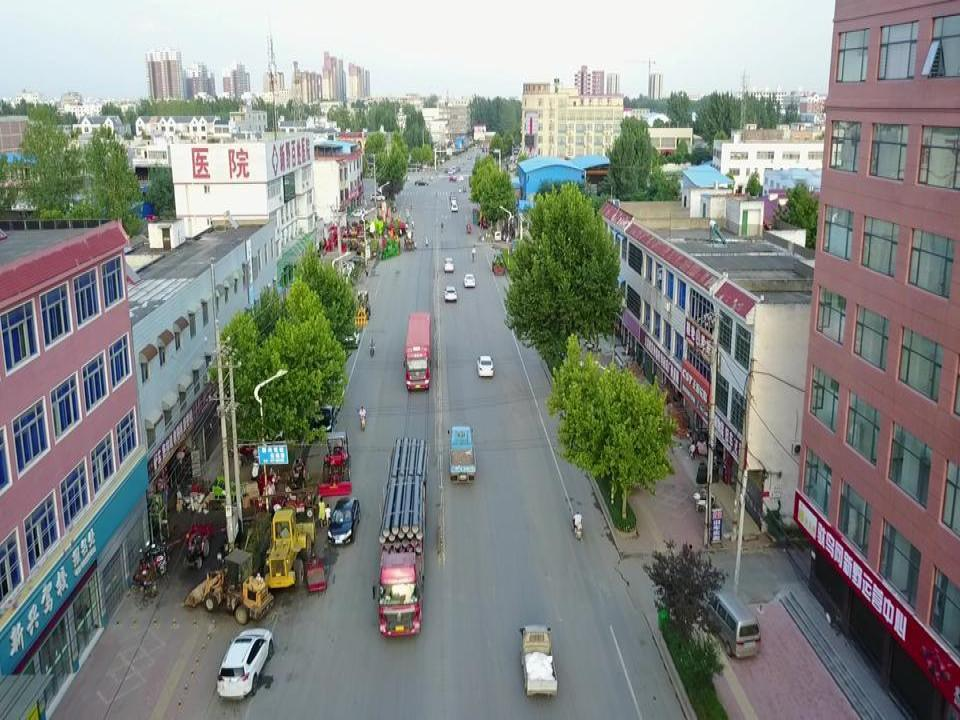car: (211, 624, 276, 701), (329, 495, 361, 545), (310, 401, 338, 436), (475, 353, 492, 376), (443, 286, 460, 302), (443, 255, 454, 273), (464, 271, 475, 288), (415, 177, 429, 188), (454, 173, 463, 183), (450, 192, 457, 203), (451, 202, 458, 210), (451, 165, 460, 171)
truck: (380, 439, 427, 640), (699, 589, 761, 660), (516, 622, 560, 702), (406, 309, 432, 395), (448, 425, 477, 484)
